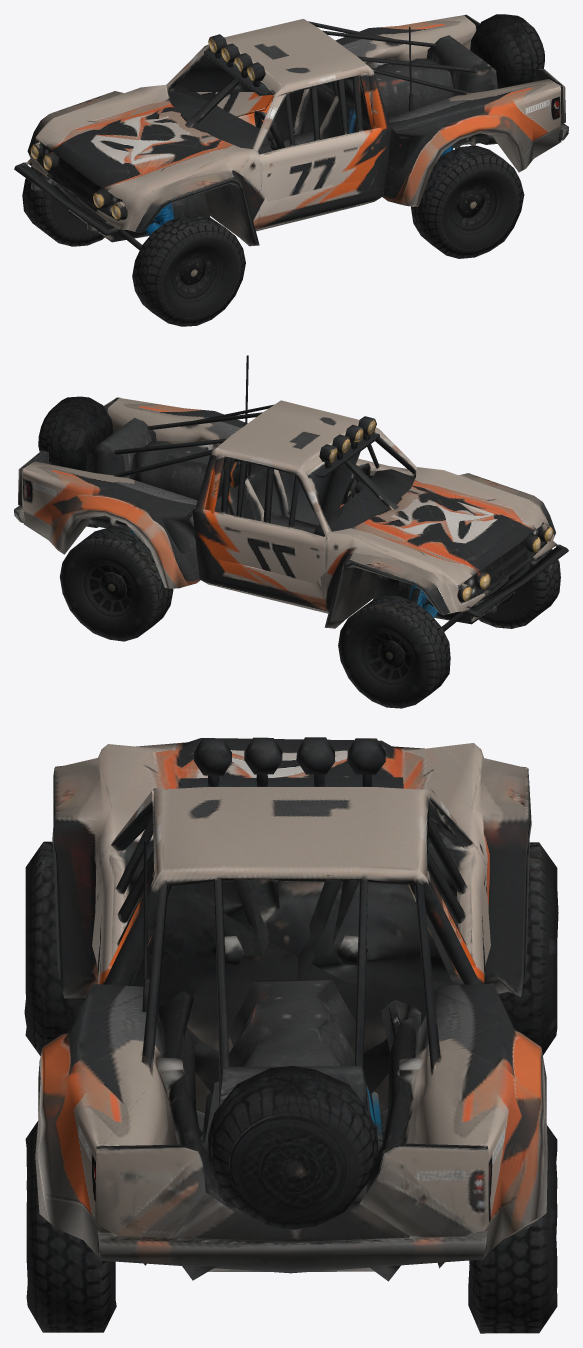
File: baja_tex.fbx
3 views of the same model, one above another, from view 1: azimuth 30°, elevation 25°; view 2: azimuth 150°, elevation 25°; view 3: azimuth 270°, elevation 25° (orthographic). The views are drawn at different scales.
Parts seen in each view (by area): view 1: Mesh_0; view 2: Mesh_0; view 3: Mesh_0.
Boxes of the visible parts, bbox=[...] form: Mesh_0: bbox=[14, 14, 568, 326]; Mesh_0: bbox=[14, 355, 568, 708]; Mesh_0: bbox=[24, 737, 558, 1333].
Bounding box in the file's own units: 99.02 × 44.53 × 48.63.
1 material, 1 textured.
